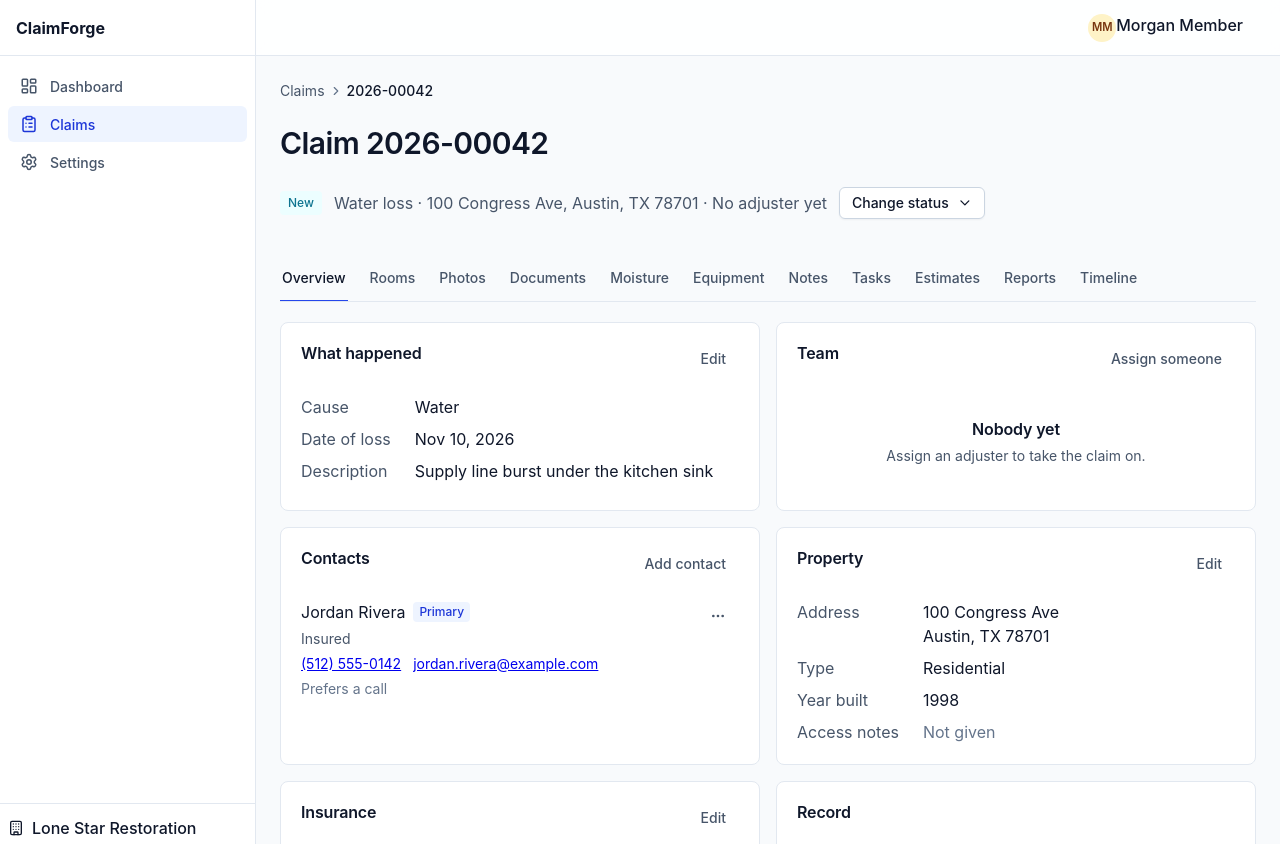
Scenario: changing the status › offers only where the claim can go, in words
Click the button "Change status".
click(912, 202)  # box [839,186,986,218]
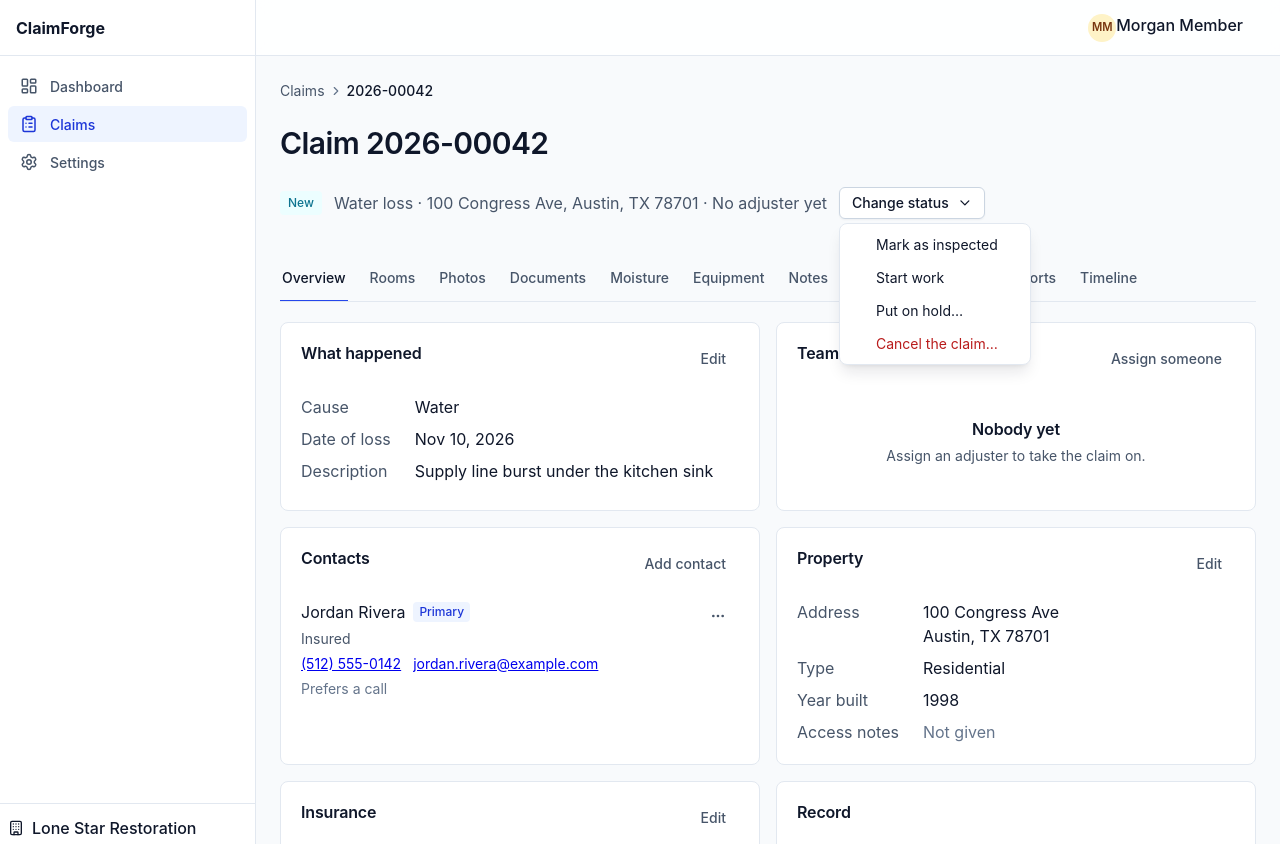
Now the menu items read "Mark as inspected", "Start work", "Put on hold…", "Cancel the claim…", in this order, box [876,236,998,253]; [876,269,944,286]; [876,302,963,319]; [876,335,998,352]
